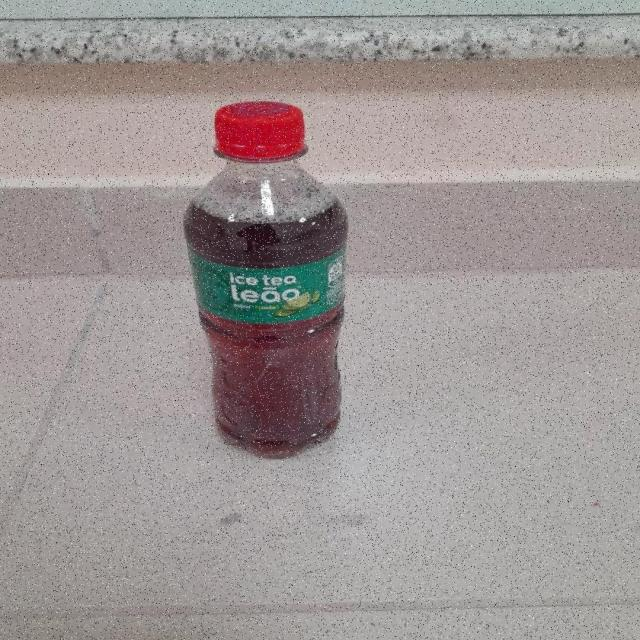IceTea: (182, 102, 350, 462)
